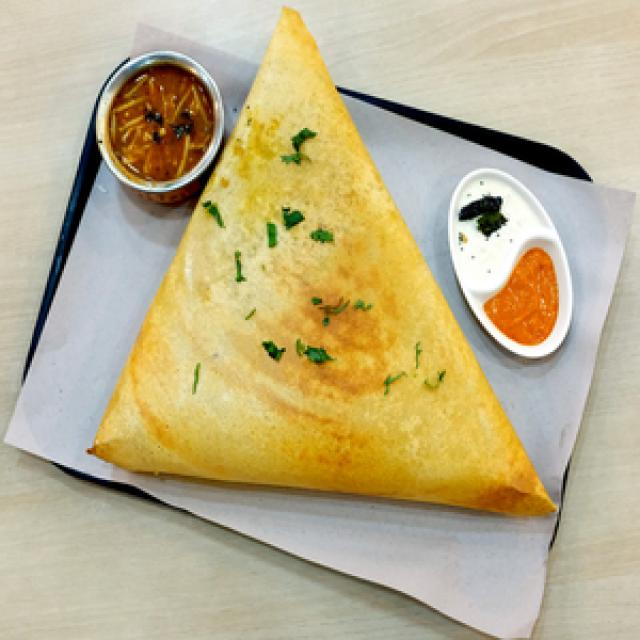dosa: (74, 2, 569, 566)
